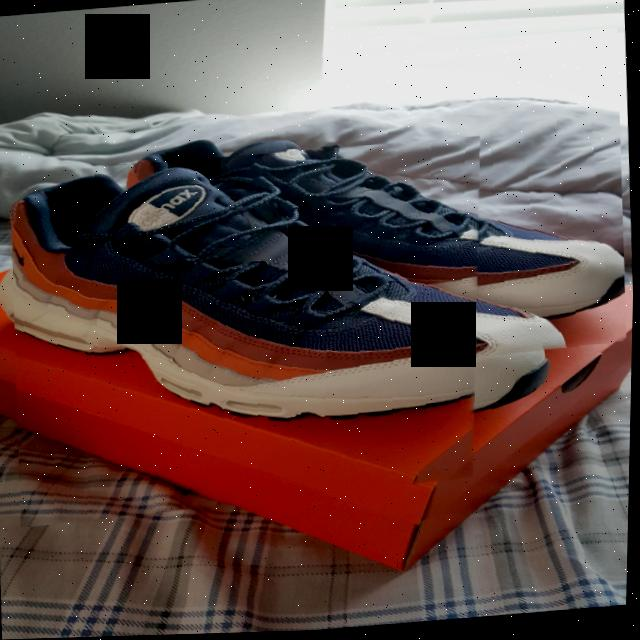shoe: (5, 138, 500, 529), (255, 31, 634, 382)
